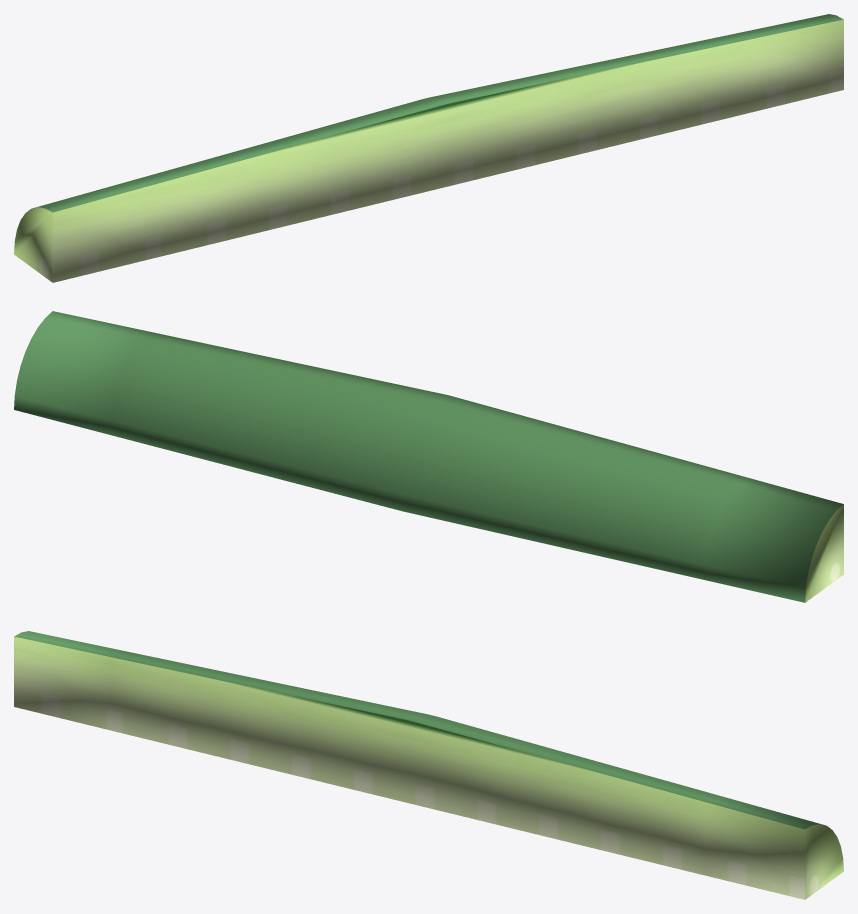
Rendered from Cucumber_Portion.fbx.
3 renders of one model, top to bottom at view 1: azimuth 30°, elevation 25°; view 2: azimuth 150°, elevation 25°; view 3: azimuth 330°, elevation 25°, orthographic.
Visible parts, largest first — view 1: Cucumber_Portion; view 2: Cucumber_Portion; view 3: Cucumber_Portion.
Boxes of the visible parts, <box> form: Cucumber_Portion: <box>14,14,843,282</box>; Cucumber_Portion: <box>14,311,843,602</box>; Cucumber_Portion: <box>14,631,843,899</box>.
Size of the model in its own units: 0.18 by 0.018 by 0.018.
3 materials, 2 textured.
